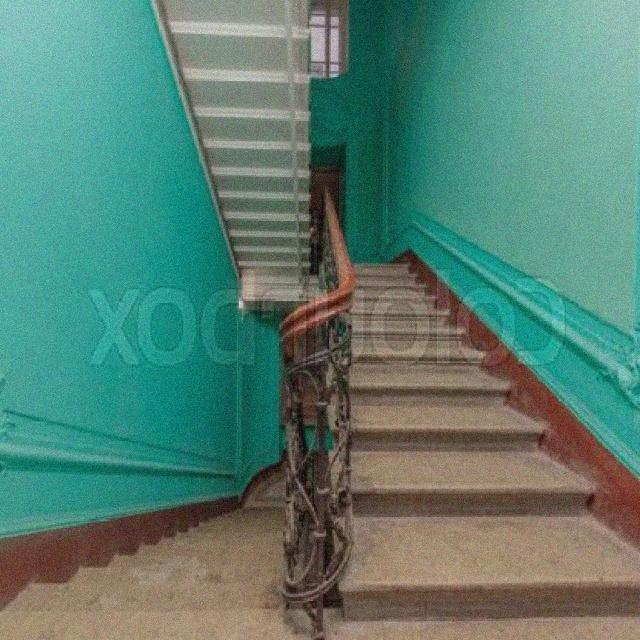stair: (301, 202, 636, 630), (167, 7, 310, 306)
